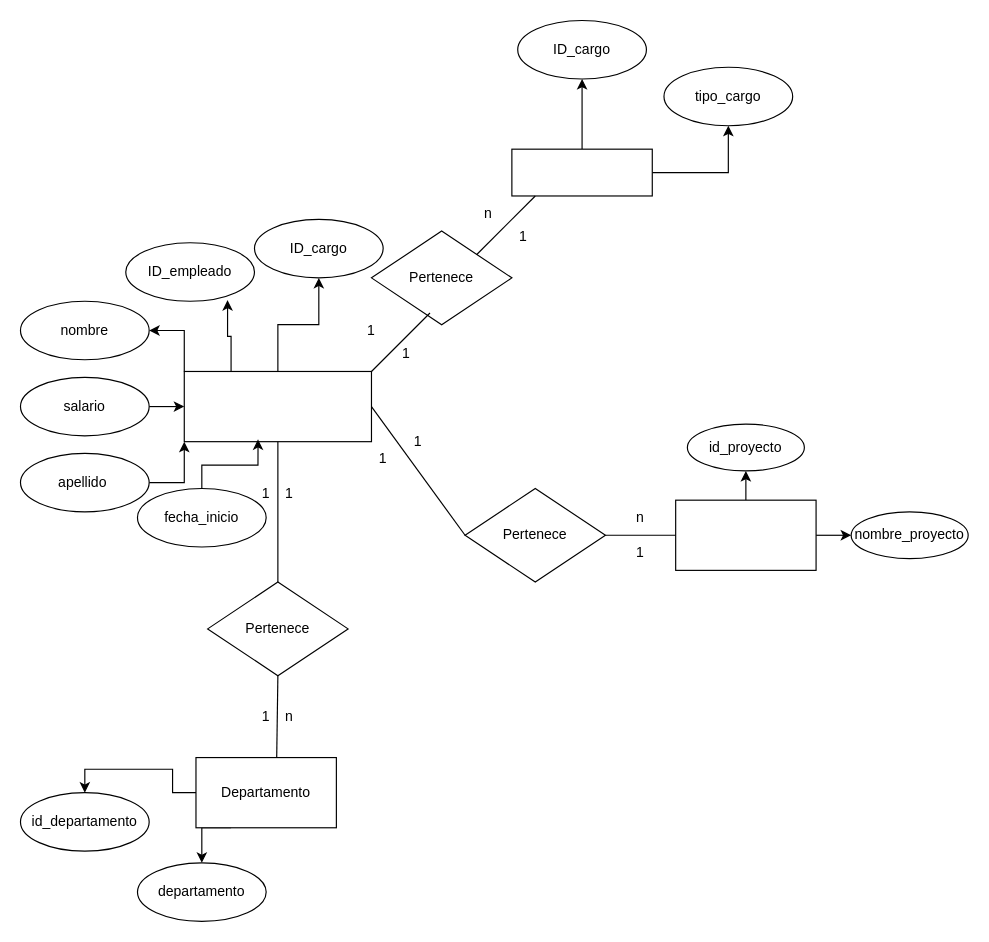
The diagram is 989 pixels wide and 942 high, and some of its shapes have lost their labels. The centre of each missing label's shape, as x and y in pixels:
cargos: the point at 581,172
EMPLEADO: the point at 277,406
proyecto: the point at 745,534
